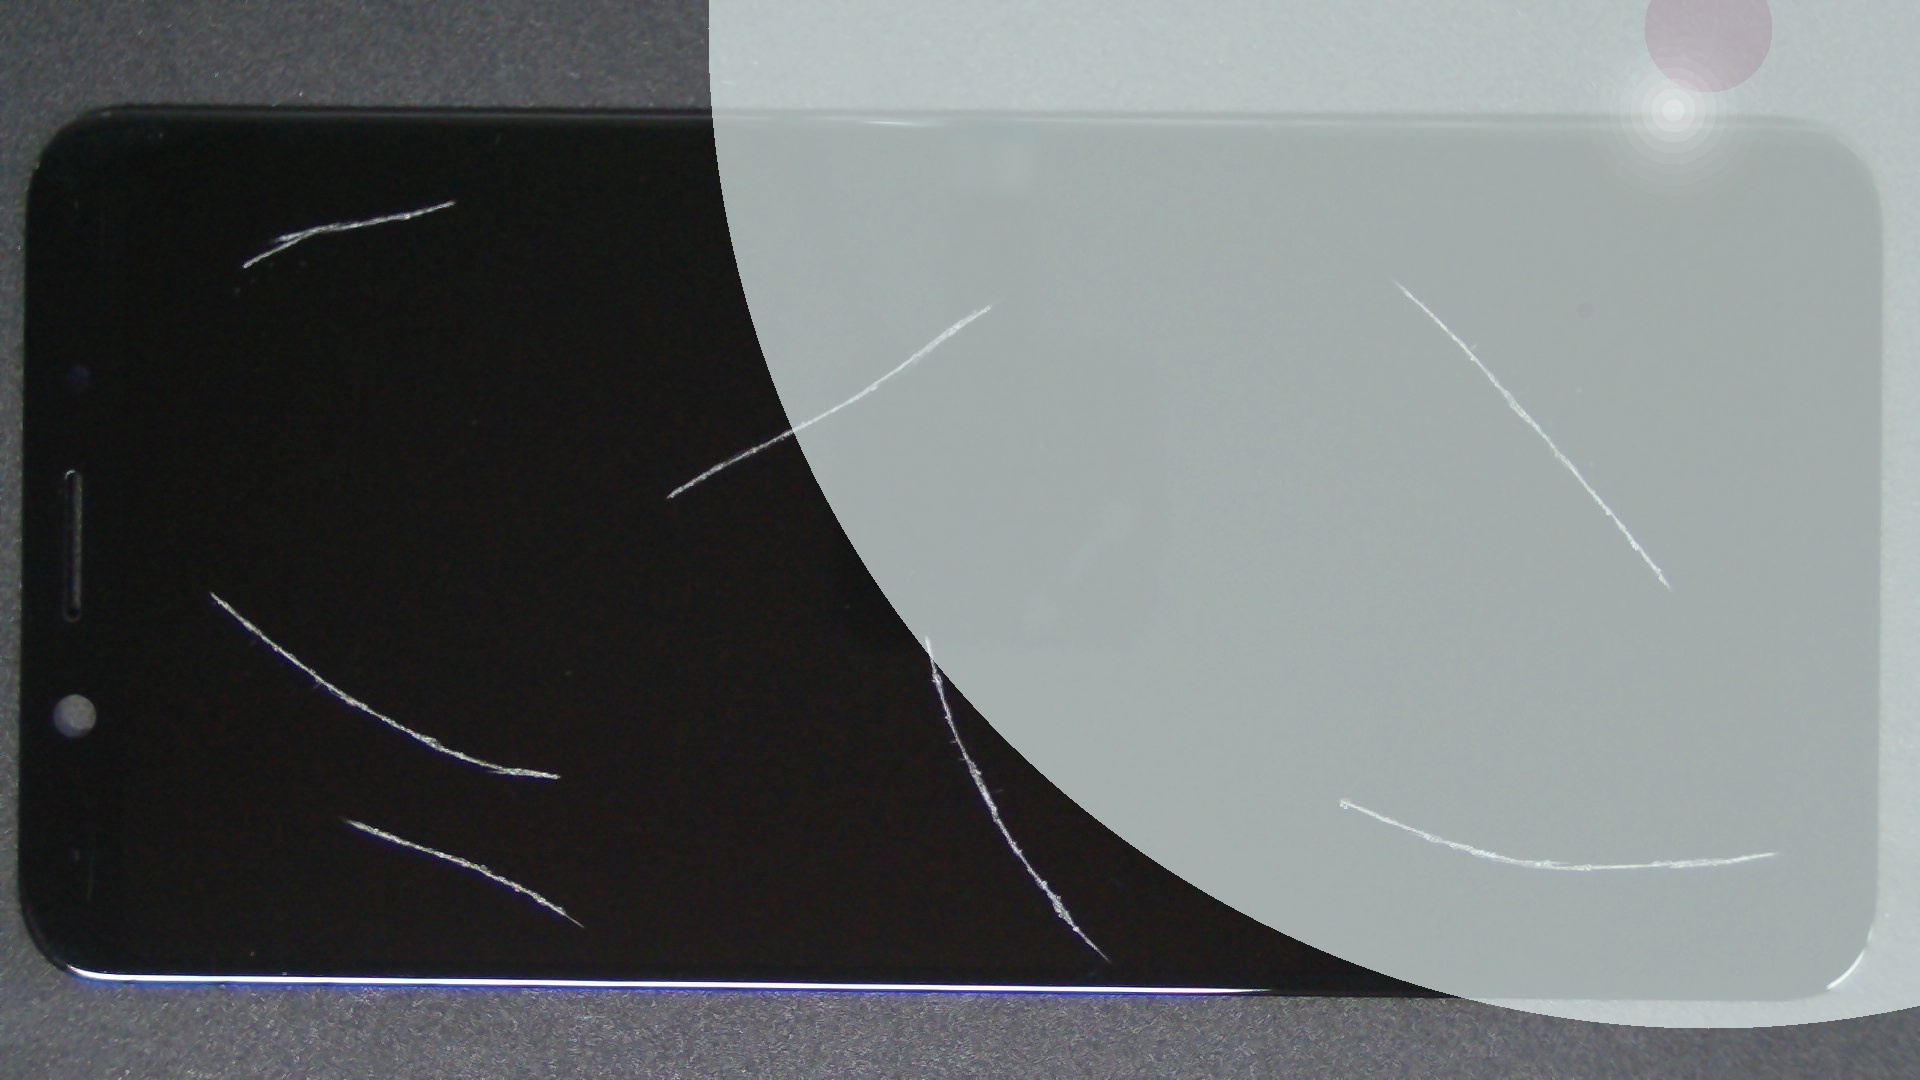oil: (673, 397, 1920, 1080), (462, 313, 1386, 956), (698, 140, 1920, 421), (495, 152, 1484, 456), (171, 407, 516, 1080), (104, 293, 314, 887), (225, 99, 673, 299)
